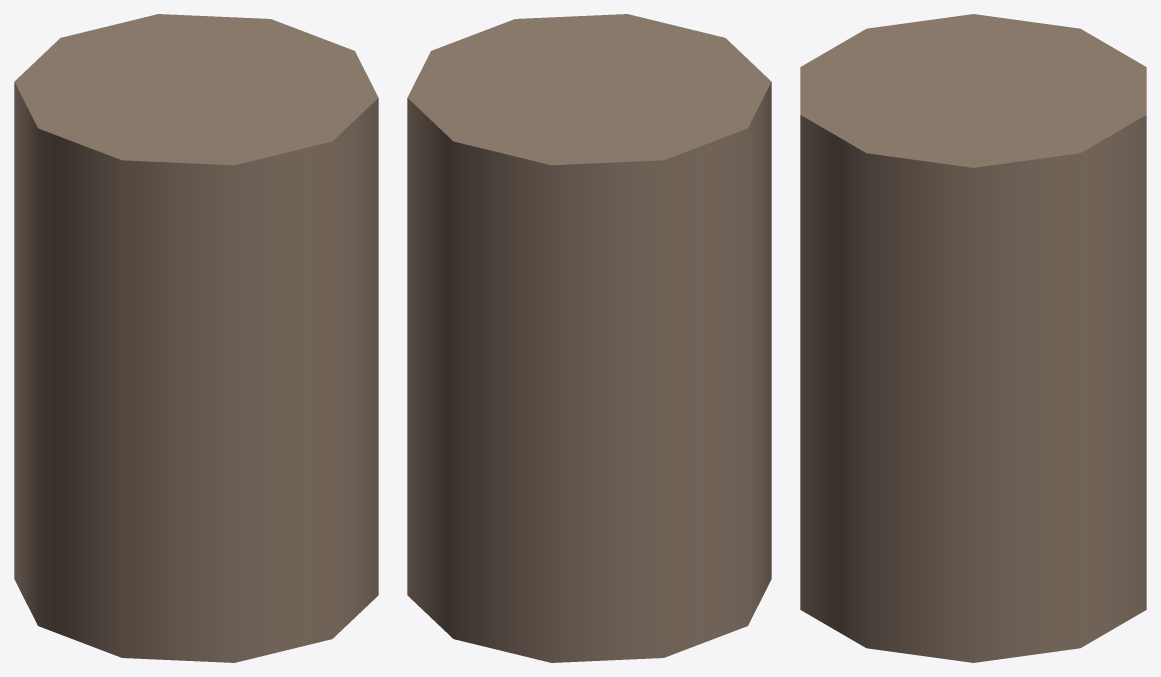
File: barrel.gltf
3 views of the same model, side by side, from view 1: azimuth 30°, elevation 25°; view 2: azimuth 150°, elevation 25°; view 3: azimuth 270°, elevation 25° (orthographic).
Visible parts, largest first — view 1: barrel; view 2: barrel; view 3: barrel.
Part boxes in pixels (x1,y1,x2,y2): barrel: (14,14,378,662); barrel: (407,14,771,662); barrel: (800,14,1146,662).
Bounding box in the file's own units: 0.6 × 0.9 × 0.5706.
